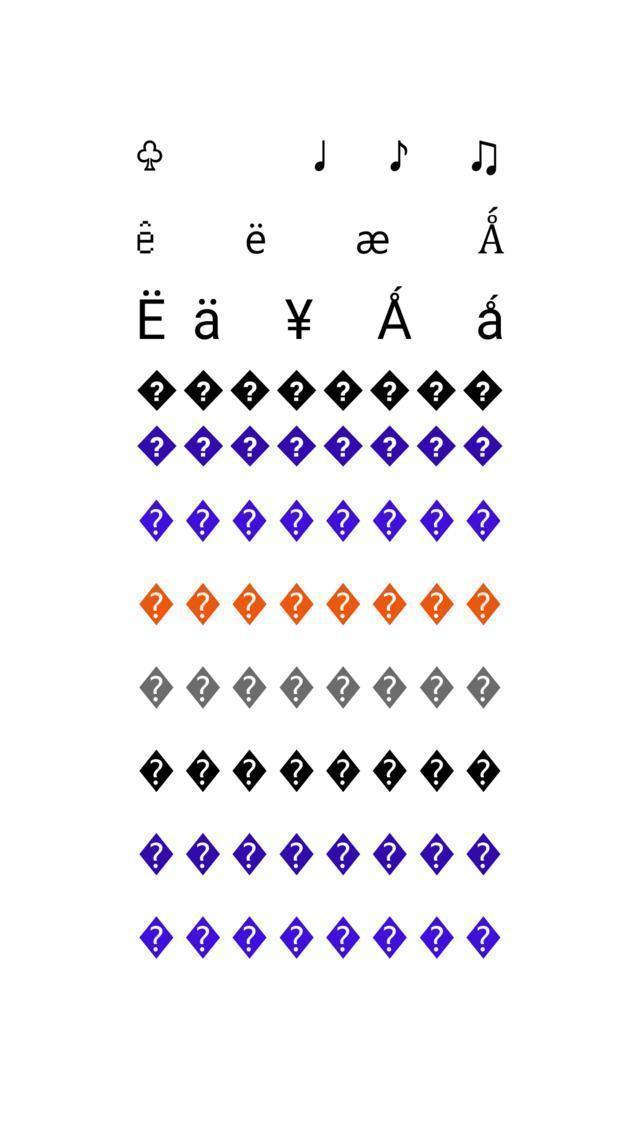ASCII: (366, 278, 418, 346), (469, 202, 512, 264), (133, 281, 172, 348), (186, 292, 230, 346), (472, 288, 512, 346), (132, 577, 176, 628), (183, 743, 222, 796), (464, 662, 504, 713), (282, 286, 318, 342), (134, 830, 174, 880), (136, 912, 176, 962), (276, 742, 314, 794), (136, 663, 176, 712), (183, 662, 222, 712), (136, 746, 174, 797), (324, 828, 362, 879), (274, 424, 318, 468), (182, 580, 222, 628), (323, 664, 363, 712), (230, 830, 268, 880), (274, 366, 316, 411), (136, 422, 177, 468), (416, 367, 456, 414), (182, 421, 222, 468), (322, 914, 362, 961), (346, 226, 401, 260), (370, 578, 408, 627), (371, 662, 408, 712), (184, 912, 221, 962), (462, 831, 504, 875), (369, 369, 410, 414), (324, 423, 364, 469), (418, 494, 454, 545), (463, 134, 502, 181), (417, 662, 455, 710), (184, 829, 222, 877), (417, 424, 458, 468), (323, 750, 364, 794), (324, 578, 360, 628), (276, 663, 314, 710), (230, 747, 268, 794), (465, 913, 503, 960), (466, 577, 501, 628), (277, 497, 313, 546), (322, 367, 363, 410), (463, 368, 503, 412), (370, 423, 410, 467), (230, 423, 269, 468), (419, 578, 454, 628), (278, 832, 316, 878), (464, 745, 501, 792), (278, 580, 314, 628), (418, 830, 454, 878), (278, 914, 314, 962), (125, 138, 169, 177), (464, 423, 503, 467), (229, 915, 268, 959), (233, 369, 271, 414), (302, 128, 336, 178), (129, 212, 163, 262), (231, 661, 265, 711), (325, 497, 360, 545), (372, 496, 407, 544), (373, 748, 408, 796), (230, 497, 266, 543), (465, 496, 501, 542), (231, 579, 266, 626), (418, 745, 453, 792), (368, 917, 406, 960), (186, 366, 220, 414), (240, 212, 272, 262), (139, 498, 173, 544), (420, 914, 454, 960), (133, 372, 174, 410), (187, 497, 220, 544), (373, 830, 406, 876), (384, 138, 416, 176)
